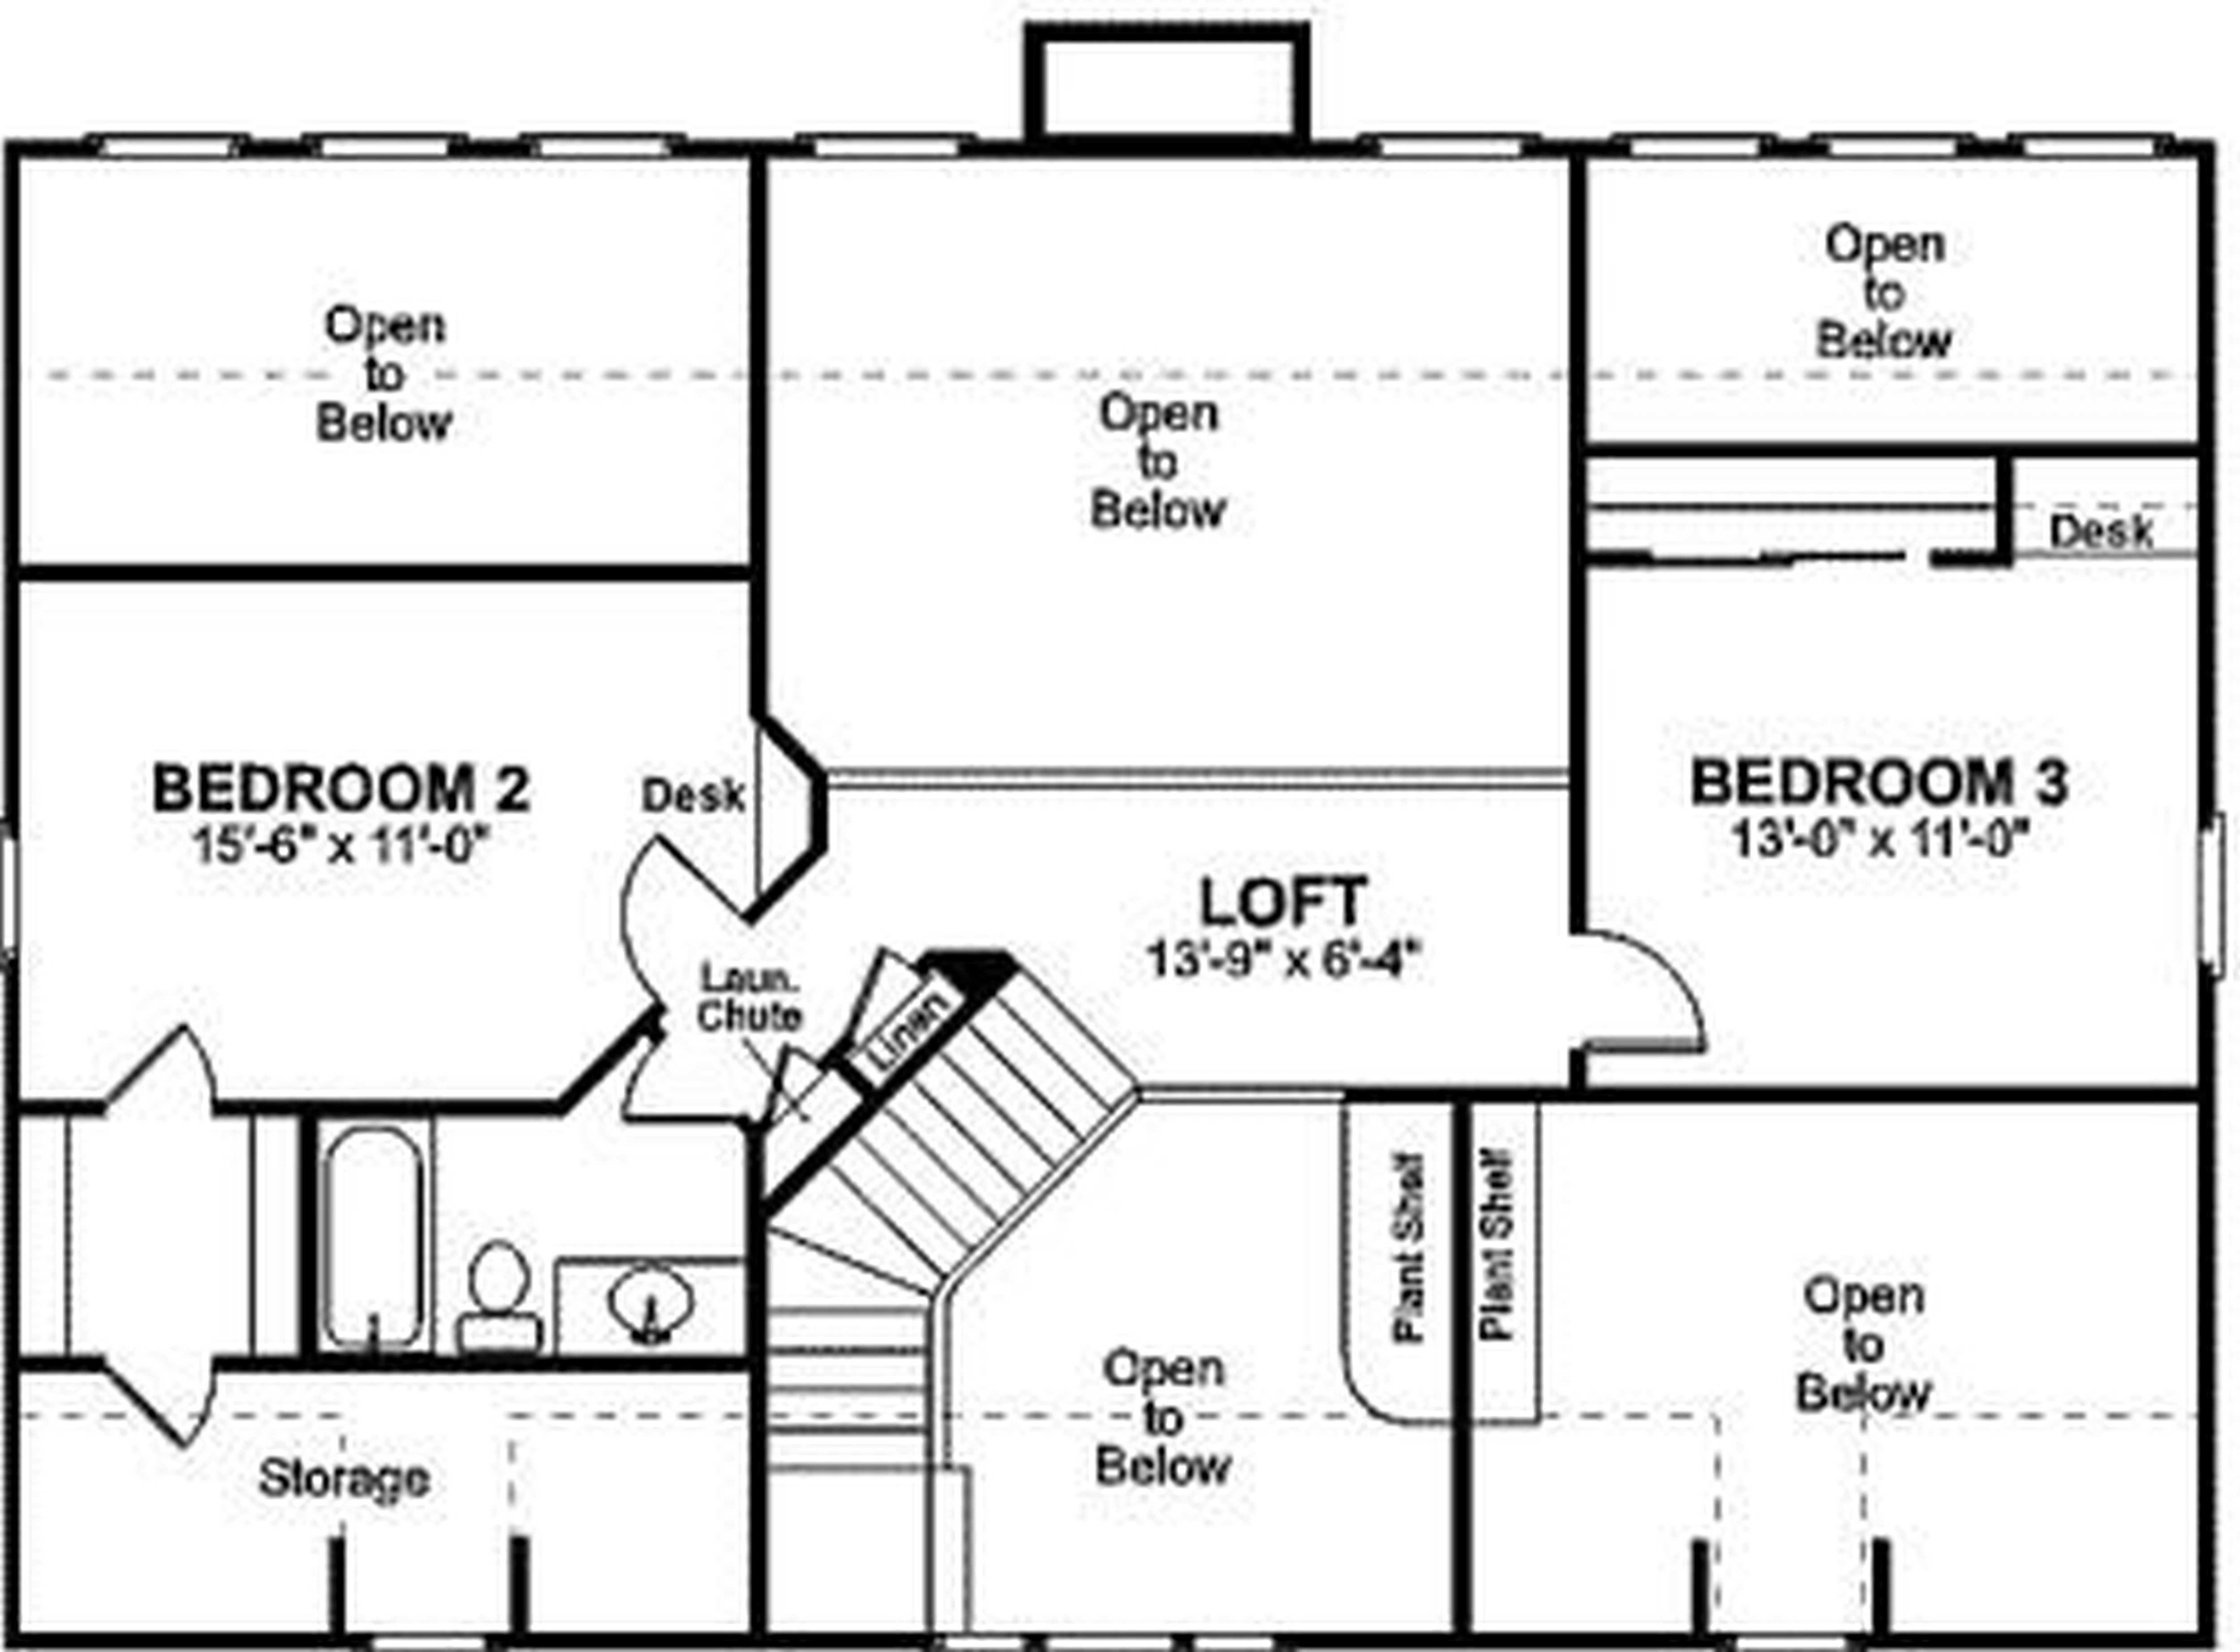room: (753, 136, 1595, 786), (1437, 1076, 2219, 1645), (0, 551, 765, 1127), (1563, 534, 2224, 1102), (3, 136, 769, 586), (9, 1349, 770, 1650), (1574, 132, 2223, 459), (3, 1097, 762, 1370)
